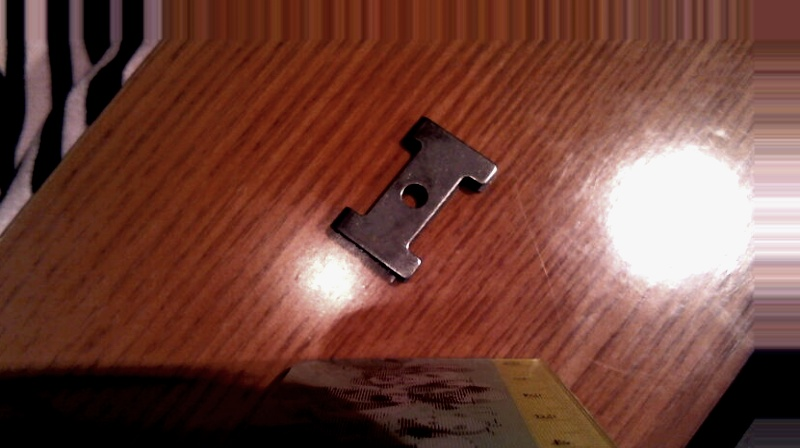O002: (327, 115, 500, 284)
